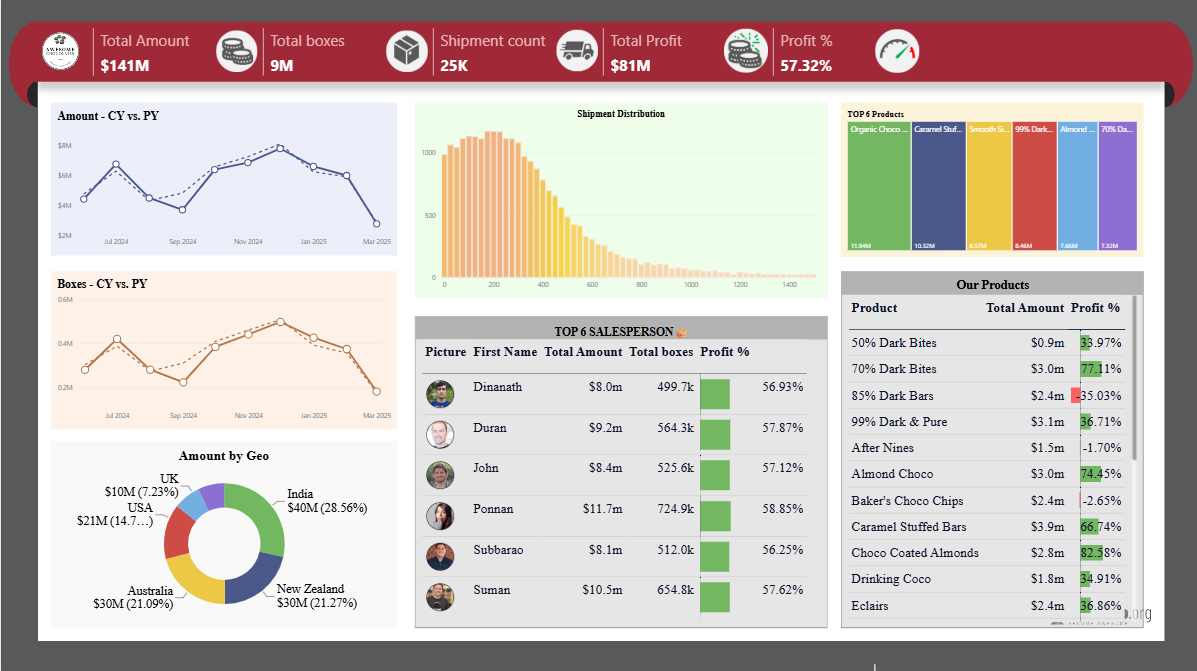

The page's visual inventory and layout, read from the dashboard file:
{"tool":"powerbi","page":{"name":"BI Report","canvas":[1920,1080],"ordinal":7},"visuals":[{"type":"lineChart","title":"Amount - CY vs. PY","fields":{"Y":["shipments.Total Amount","shipments.Total amount(last year)"],"Category":["calendar.Start of Month"]},"box":[80.3,164.7,553.7,244.9],"z":0},{"type":"lineChart","title":"Boxes - CY vs. PY","fields":{"Category":["calendar.Start of Month"],"Y":["shipments.Total boxes","shipments.Total Boxes(last year)"]},"box":[80.3,434.3,553.7,253.2],"z":1000},{"type":"qnaVisual","box":[1392.5,1057.5,12.5,22.5],"z":2000},{"type":"donutChart","title":"Amount by Geo","fields":{"Y":["shipments.Total Amount"],"Category":["locations.Geo"]},"box":[80.3,706,553.7,298.5],"z":3000},{"type":"clusteredColumnChart","title":"Shipment Distribution","fields":{"Y":["shipments.Shipment count"],"Category":["shipments.Boxes (bins)"]},"box":[662.8,164.7,660.7,312.9],"z":4000},{"type":"tableEx","title":"TOP 6 SALESPERSON👑","fields":{"Values":["people.Picture","people.First Name","shipments.Total Amount","shipments.Total boxes","shipments.Profit %"]},"box":[662.8,506.3,660.7,498.1],"z":5000},{"type":"treemap","title":"TOP 6 Products","fields":{"Values":["Sum(shipments.Amount)"],"Group":["products.Product"]},"box":[1344.1,164.7,483.7,247],"z":6000},{"type":"tableEx","title":"Our Products","fields":{"Values":["products.Product","shipments.Total Amount","shipments.Profit %"]},"box":[1344.1,434.3,483.7,570.2],"z":7000},{"type":"cardVisual","fields":{"Data":["shipments.Total Amount","shipments.Total boxes","shipments.Shipment count","shipments.Total Profit","shipments.Profit %"]},"box":[142,39.1,1364.7,86.4],"z":7001},{"type":"image","box":[333.4,43.2,86.4,76.2],"z":7002},{"type":"image","box":[601,43.2,94.7,76.2],"z":7003},{"type":"image","box":[883,6.2,76.2,150.3],"z":7004},{"type":"image","box":[1152.7,26.8,80.3,111.1],"z":7005},{"type":"image","box":[1393.5,22.6,80.3,119.4],"z":7006}]}

Visuals, with their boxes in screenshot pixels (x1, y1, x2, y2), scaled from the page's 1920x1080 canvas onto the 1197x671 screenshot:
"Amount - CY vs. PY" lineChart: [50,102,395,254]
"Boxes - CY vs. PY" lineChart: [50,270,395,427]
qnaVisual: [868,657,876,670]
"Amount by Geo" donutChart: [50,439,395,624]
"Shipment Distribution" clusteredColumnChart: [413,102,825,297]
"TOP 6 SALESPERSON👑" tableEx: [413,315,825,624]
"TOP 6 Products" treemap: [838,102,1140,256]
"Our Products" tableEx: [838,270,1140,624]
cardVisual - shipments.Total Amount x shipments.Total boxes: [89,24,939,78]
image: [208,27,262,74]
image: [375,27,434,74]
image: [550,4,598,97]
image: [719,17,769,86]
image: [869,14,919,88]
